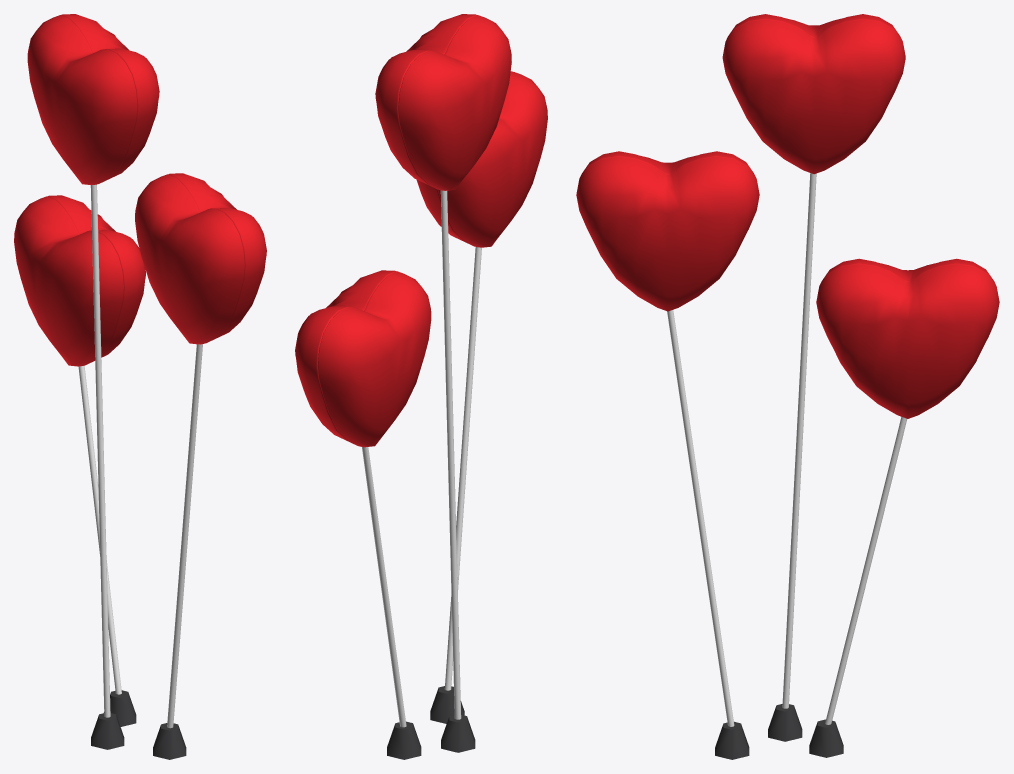
Rendered from MM_HeartBalloons.fbx.
3 views of the same model, side by side, from view 1: azimuth 30°, elevation 25°; view 2: azimuth 150°, elevation 25°; view 3: azimuth 270°, elevation 25° (orthographic). The views are drawn at different scales.
Visible parts, largest first — view 1: MM_HeartBalloons; view 2: MM_HeartBalloons; view 3: MM_HeartBalloons.
Part boxes in pixels (x1,y1,x2,y2): MM_HeartBalloons: [14, 14, 266, 759]; MM_HeartBalloons: [295, 14, 547, 759]; MM_HeartBalloons: [576, 14, 999, 759].
Bounding box in the file's own units: 44.98 × 243 × 130.
